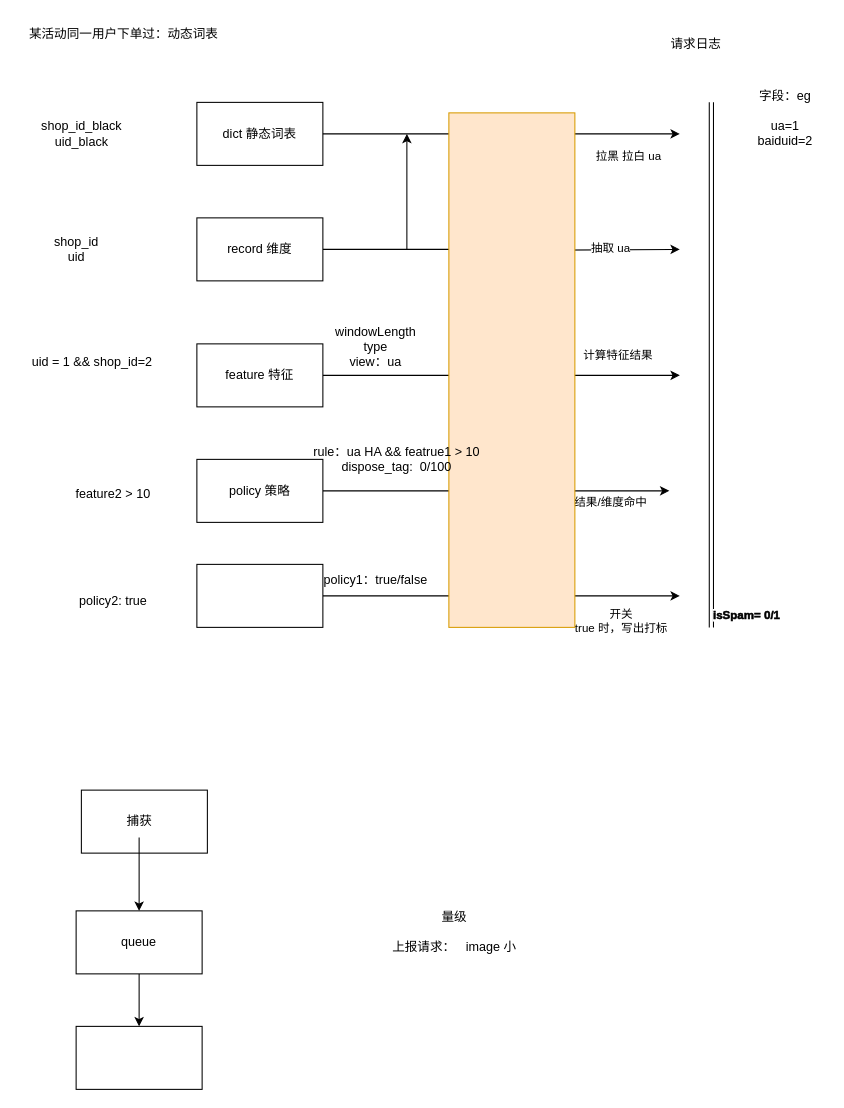
Some shapes in this 844 by 1108 pixel diagram are drawn without their labels. Here are the shapes that lost their labels. From the top down, the centre of each, then its label:
At (511,369): "过滤系统 如 在线".
At (259,595): "judge 开关".
At (138,1057): "sendbean".
